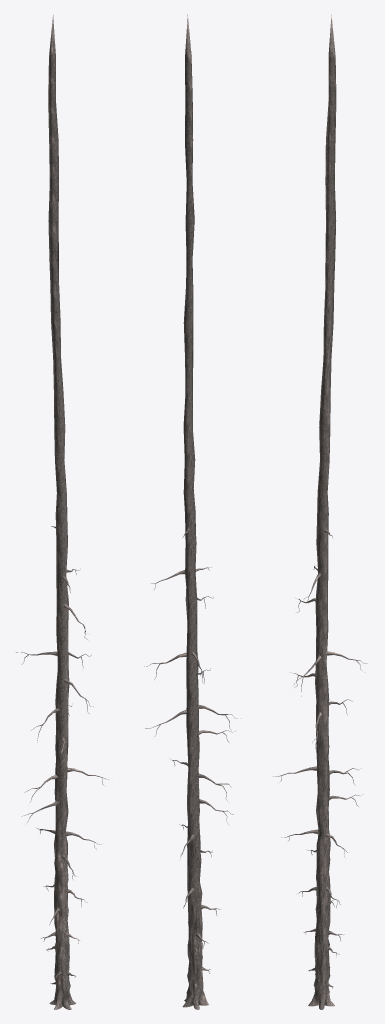
The picture shows the model from 3 angles, left to right: view 1: azimuth 90°, elevation 25°; view 2: azimuth 210°, elevation 25°; view 3: azimuth 270°, elevation 25°; orthographic projection.
Visible parts, largest first — view 1: DouglasFir_Var04.002, DouglasFir_Var04.003, DouglasFir_Var04.001; view 2: DouglasFir_Var04.002, DouglasFir_Var04.003, DouglasFir_Var04.001; view 3: DouglasFir_Var04.002, DouglasFir_Var04.003, DouglasFir_Var04.001.
Boxes of the visible parts, x1,y1,x2,y2 form: DouglasFir_Var04.002: (22, 701, 109, 1009); DouglasFir_Var04.003: (16, 358, 93, 713); DouglasFir_Var04.001: (48, 15, 60, 359); DouglasFir_Var04.002: (145, 698, 237, 1009); DouglasFir_Var04.003: (144, 357, 213, 700); DouglasFir_Var04.001: (183, 14, 194, 359); DouglasFir_Var04.002: (273, 699, 361, 1009); DouglasFir_Var04.003: (293, 358, 367, 701); DouglasFir_Var04.001: (323, 14, 336, 360).
Size of the model in its own units: 259 by 2759 by 252.
